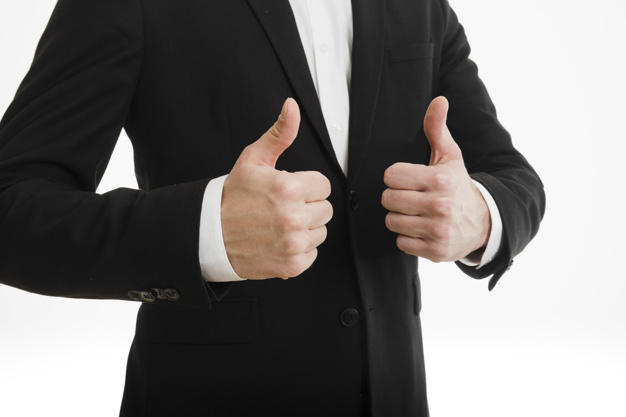thumbsup: (245, 97, 333, 279), (381, 96, 458, 262)
